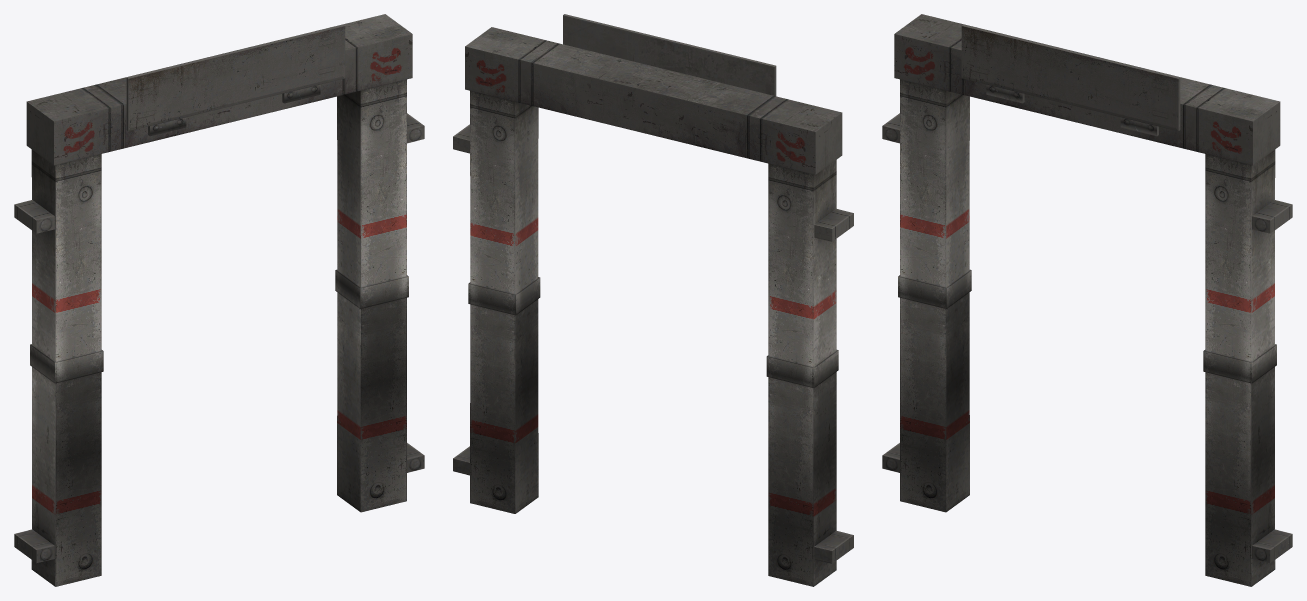
Rendered from slidedoor_flesher_medium_window_frame.DAE.
The picture shows the model from 3 angles, left to right: view 1: azimuth 30°, elevation 25°; view 2: azimuth 150°, elevation 25°; view 3: azimuth 330°, elevation 25°; orthographic projection. The views are drawn at different scales.
Parts seen in each view (by area): view 1: slidedoor_flesher_medium_window_frame; view 2: slidedoor_flesher_medium_window_frame; view 3: slidedoor_flesher_medium_window_frame.
Boxes of the visible parts, x1=… form: slidedoor_flesher_medium_window_frame: x1=14, y1=14, x2=424, y2=586; slidedoor_flesher_medium_window_frame: x1=453, y1=14, x2=853, y2=586; slidedoor_flesher_medium_window_frame: x1=882, y1=14, x2=1292, y2=586.
Bounding box in the file's own units: 2.63 × 0.3625 × 3.21.
